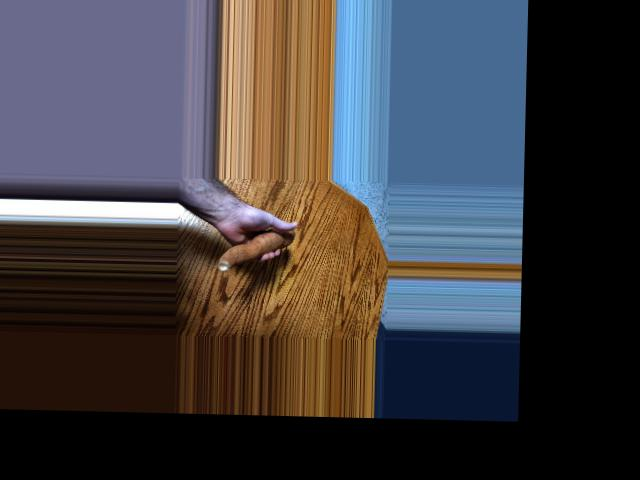sweet_potato: (213, 228, 291, 272)
